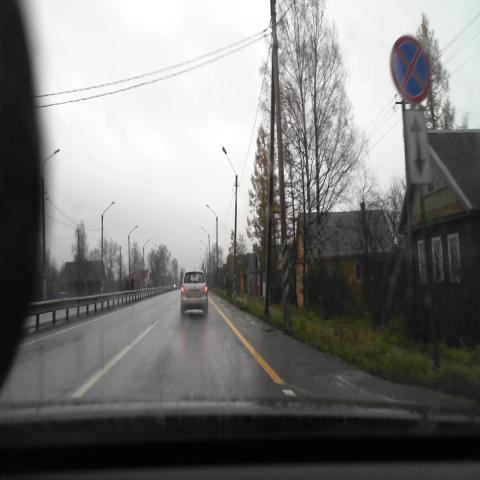8_2_4: (404, 109, 432, 185)
